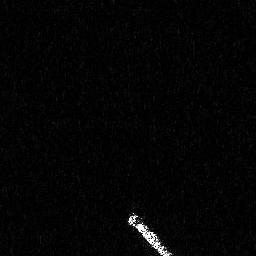ship: (125, 208, 176, 256)
